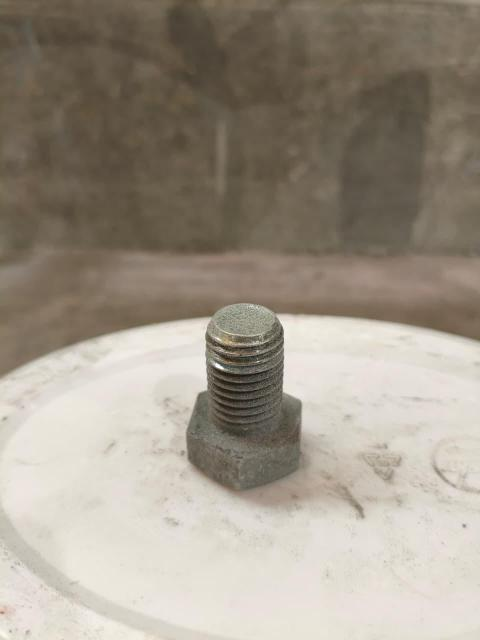Metal: (186, 301, 304, 491)
